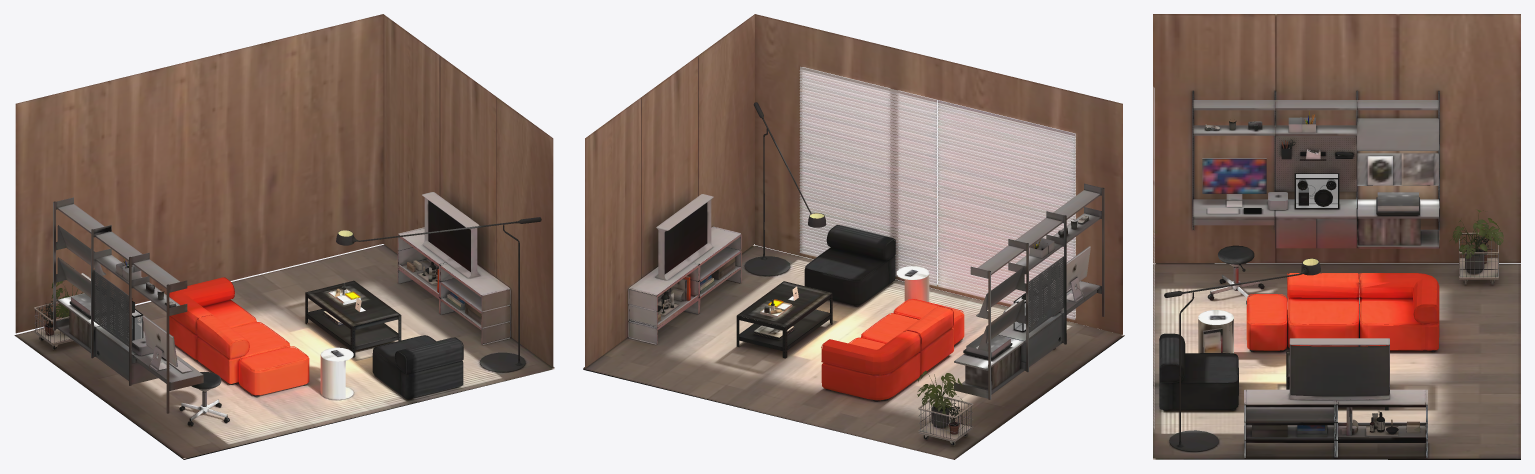
Rendered from compressed_alt9.glb.
The picture shows the model from 3 angles, left to right: view 1: azimuth 30°, elevation 25°; view 2: azimuth 150°, elevation 25°; view 3: azimuth 270°, elevation 25°; orthographic projection. The views are drawn at different scales.
Parts seen in each view (by area): view 1: alt9_Baked.633; view 2: alt9_Baked.633; view 3: alt9_Baked.633.
Part boxes in pixels (<box>): alt9_Baked.633: <box>14,14,554,459</box>; alt9_Baked.633: <box>583,14,1124,459</box>; alt9_Baked.633: <box>1153,14,1520,459</box>.
Bounding box in the file's own units: 4.22 × 2.52 × 3.34.
Materials: 2 (1 with a texture image).
